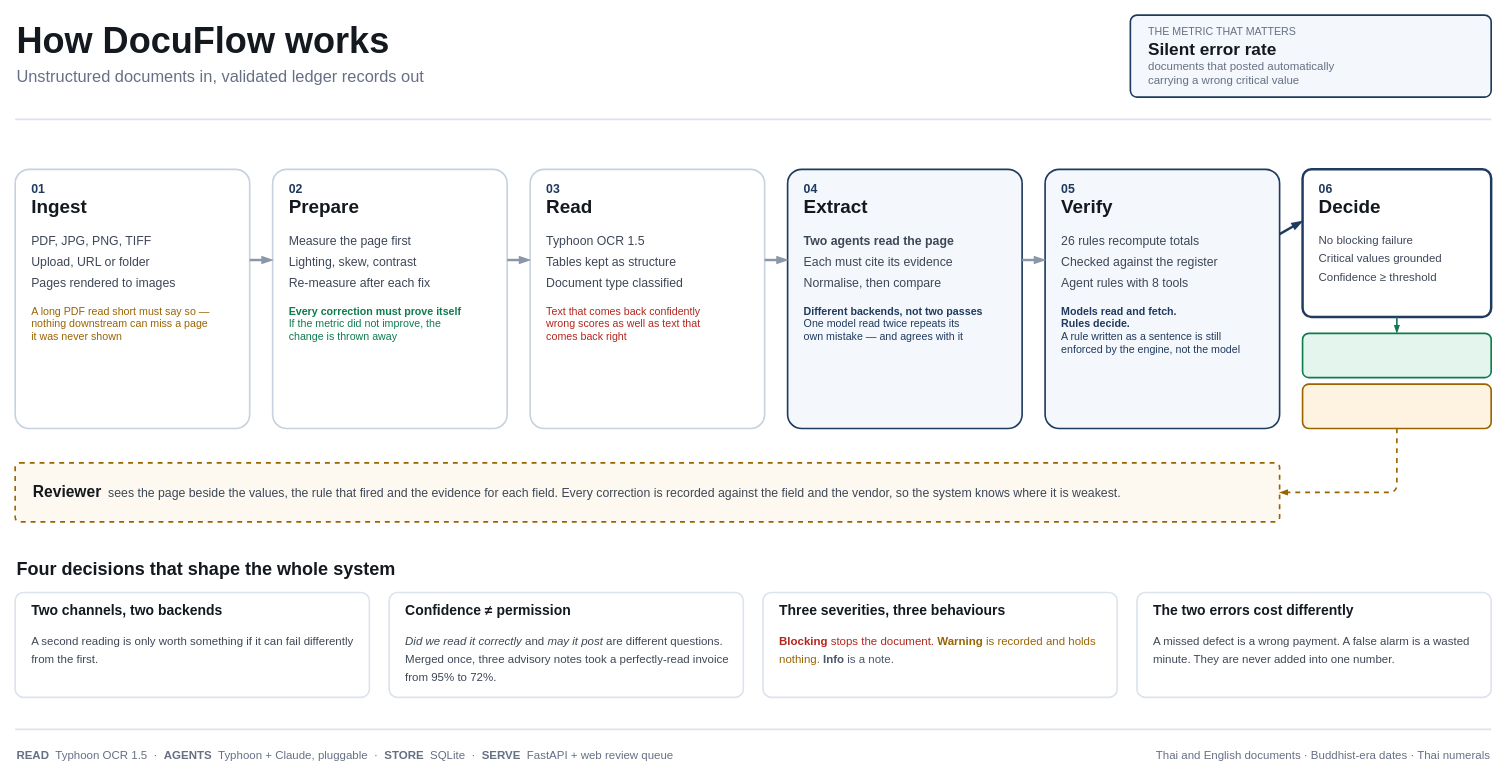
Image size: 1506x778. Some labels were removed from this diagram. The centre of each missing label's shape, as x and y in pixels:
"HOLD queued, with the reason" goes at (1396,406).
"POST straight through, no review" goes at (1396,355).
